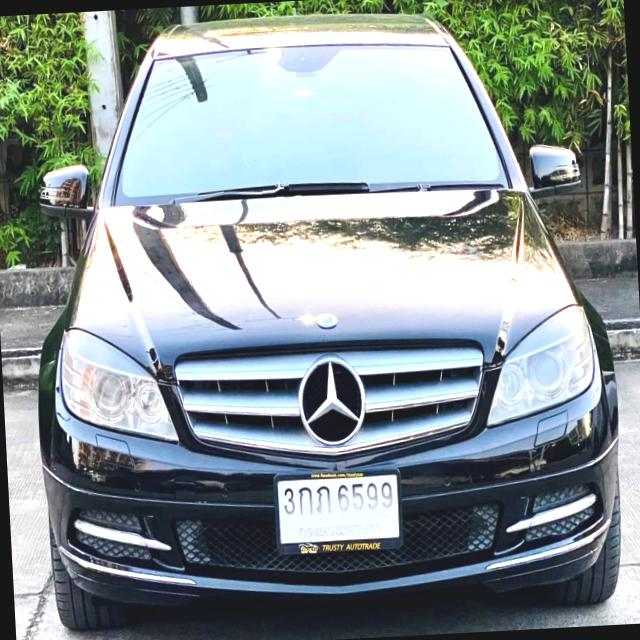license_plate: (268, 460, 411, 558)
